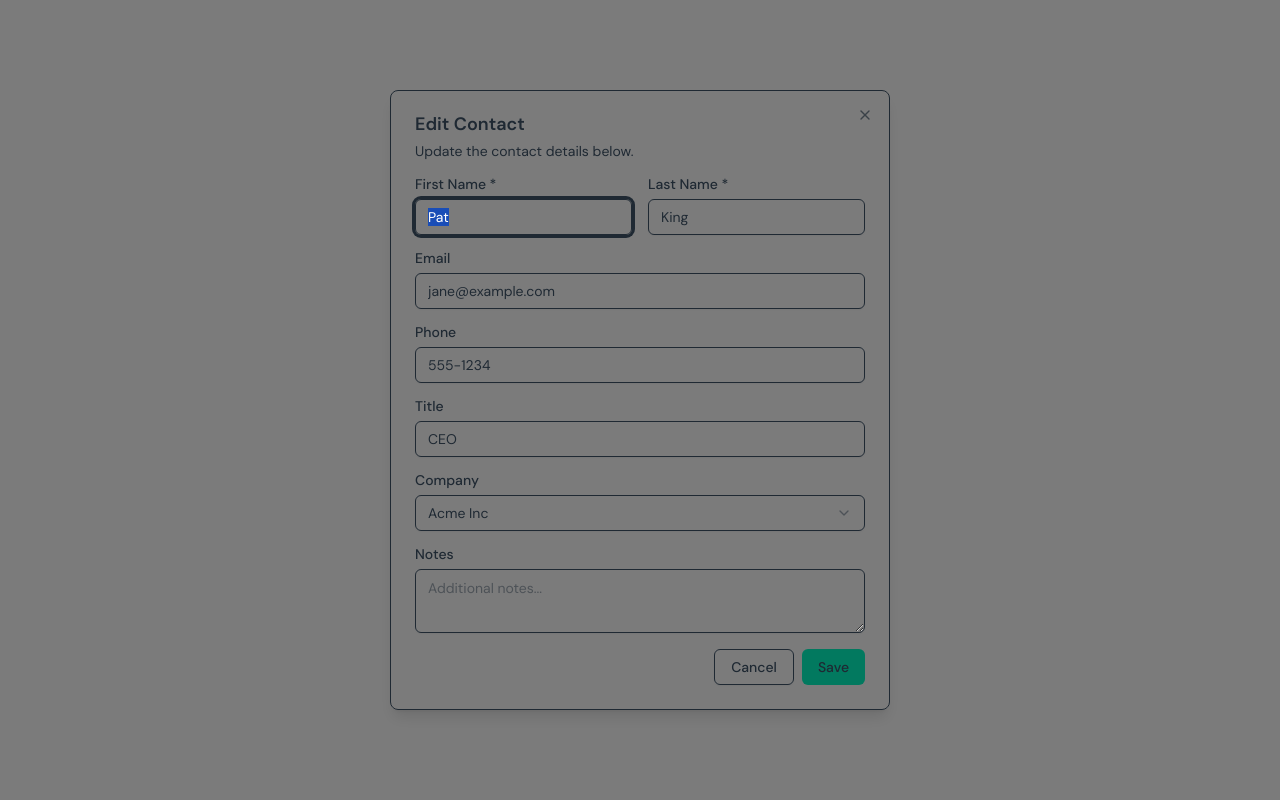
Test case: ContactFormDialog › selecting "None" clears the company id back to null
The width and height of the screenshot is (1280, 800).
Expected: the heading "Edit Contact" is shown, [415,112,525,136]
Click the dropdown: (458, 513) [415,495,865,531]
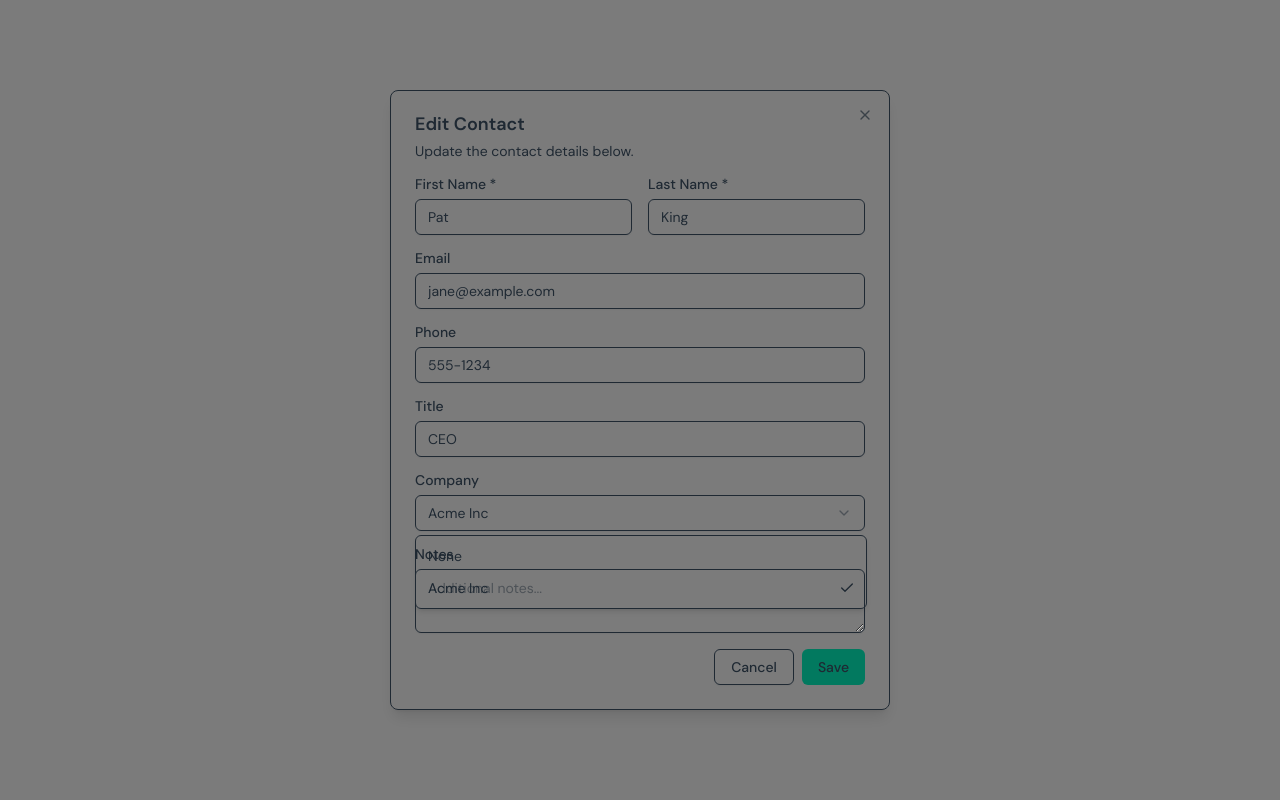
Click the option "None": (445, 556) [428,547,462,565]
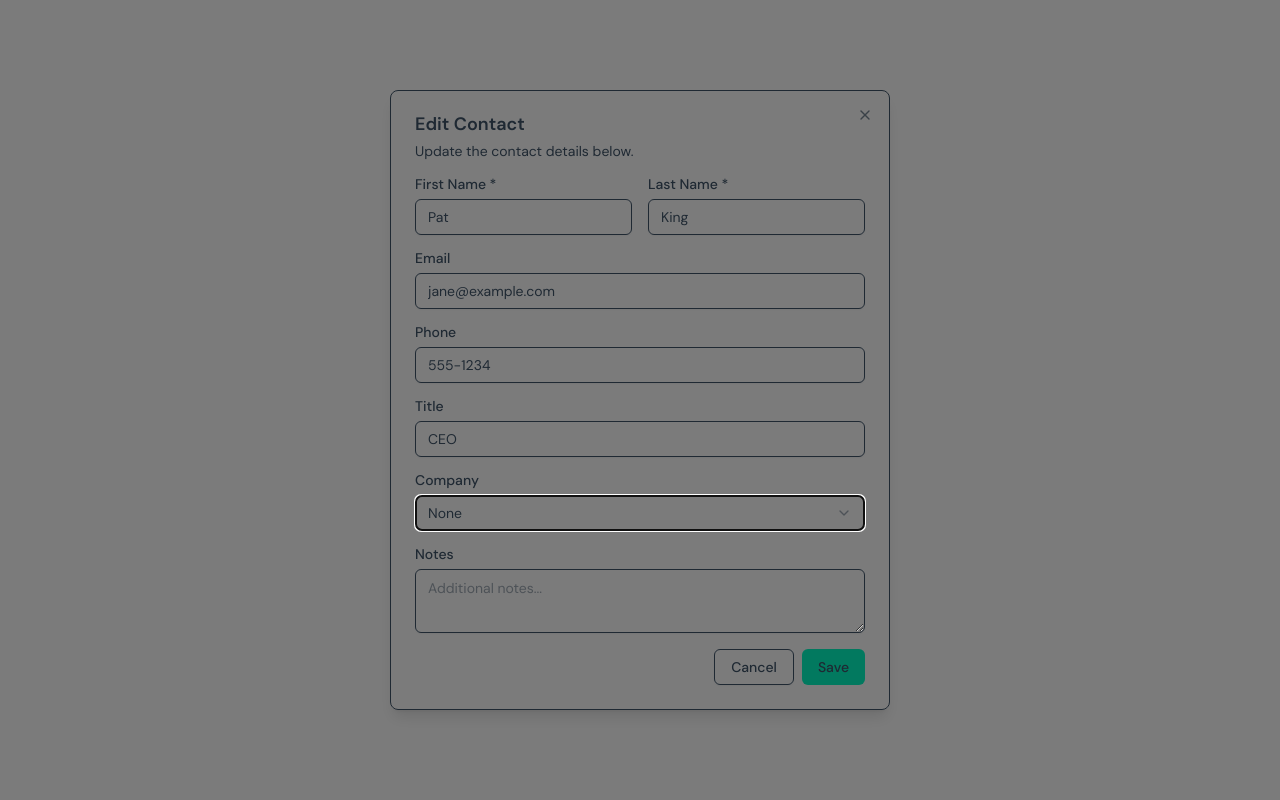
Expected: the dropdown no longer shows "Acme Inc", [415,495,865,531]
